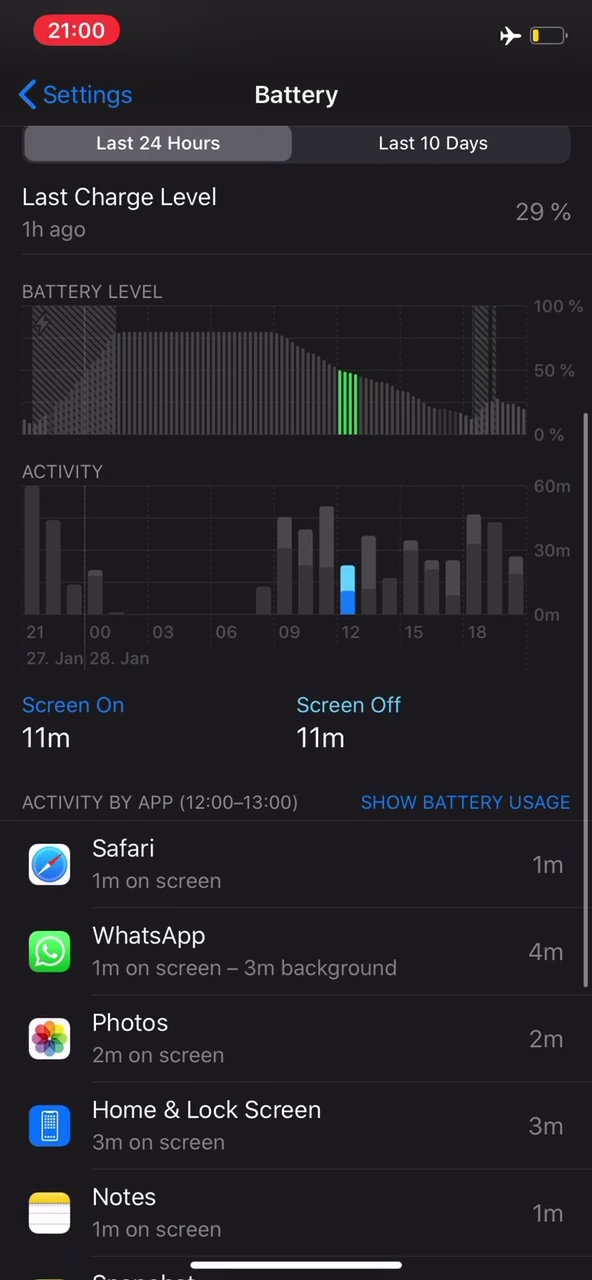activity: (4, 787, 313, 814)
app: (13, 830, 568, 901), (11, 914, 566, 985), (13, 1003, 568, 1074), (15, 1091, 570, 1162), (13, 1176, 568, 1247)
